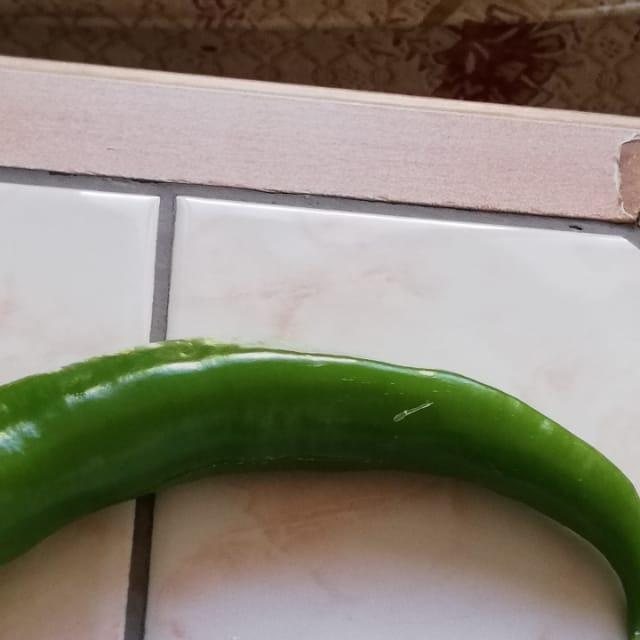chili_pepper: (0, 322, 640, 640)
